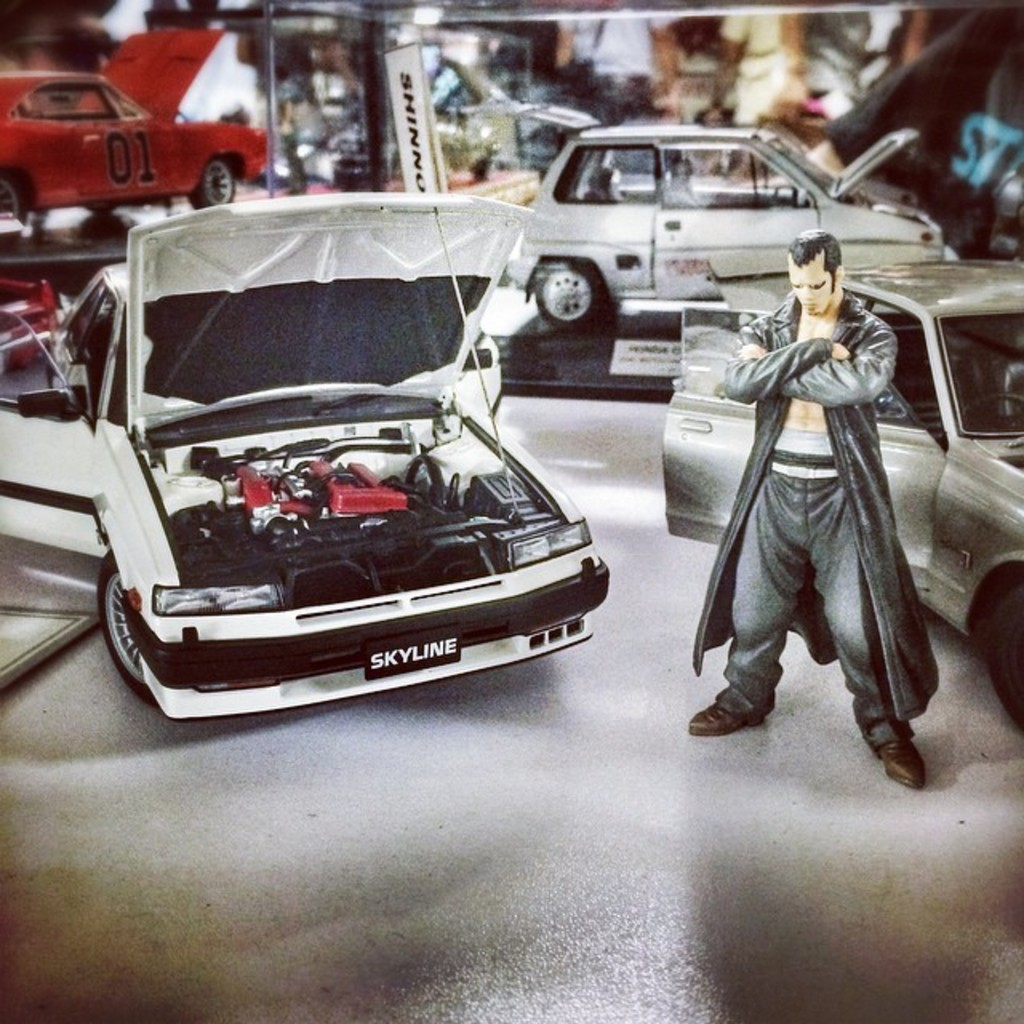mobil: (12, 271, 630, 748)
